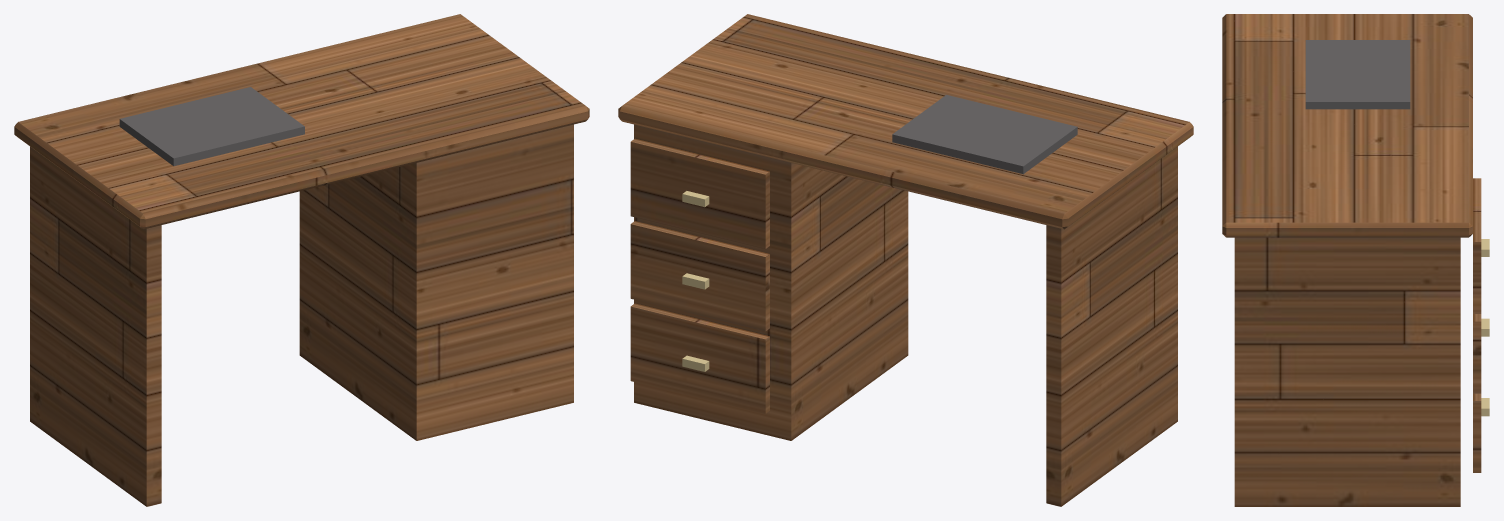
Rendered from desk.glb.
3 renders of one model, left to right at view 1: azimuth 30°, elevation 25°; view 2: azimuth 150°, elevation 25°; view 3: azimuth 270°, elevation 25°, orthographic. The views are drawn at different scales.
Parts seen in each view (by area): view 1: desk_wood, desk_dark; view 2: desk_wood, desk_dark, desk_brass; view 3: desk_wood, desk_dark, desk_brass.
Boxes of the visible parts, x1=… form: desk_wood: x1=14, y1=14, x2=589, y2=506; desk_dark: x1=119, y1=87, x2=304, y2=166; desk_wood: x1=618, y1=14, x2=1193, y2=506; desk_dark: x1=892, y1=95, x2=1077, y2=174; desk_brass: x1=682, y1=191, x2=709, y2=371; desk_wood: x1=1222, y1=14, x2=1481, y2=506; desk_dark: x1=1305, y1=40, x2=1410, y2=109; desk_brass: x1=1481, y1=239, x2=1489, y2=416.
Size of the model in its own units: 1.2 by 0.78 by 0.64.
3 materials, 1 textured.
